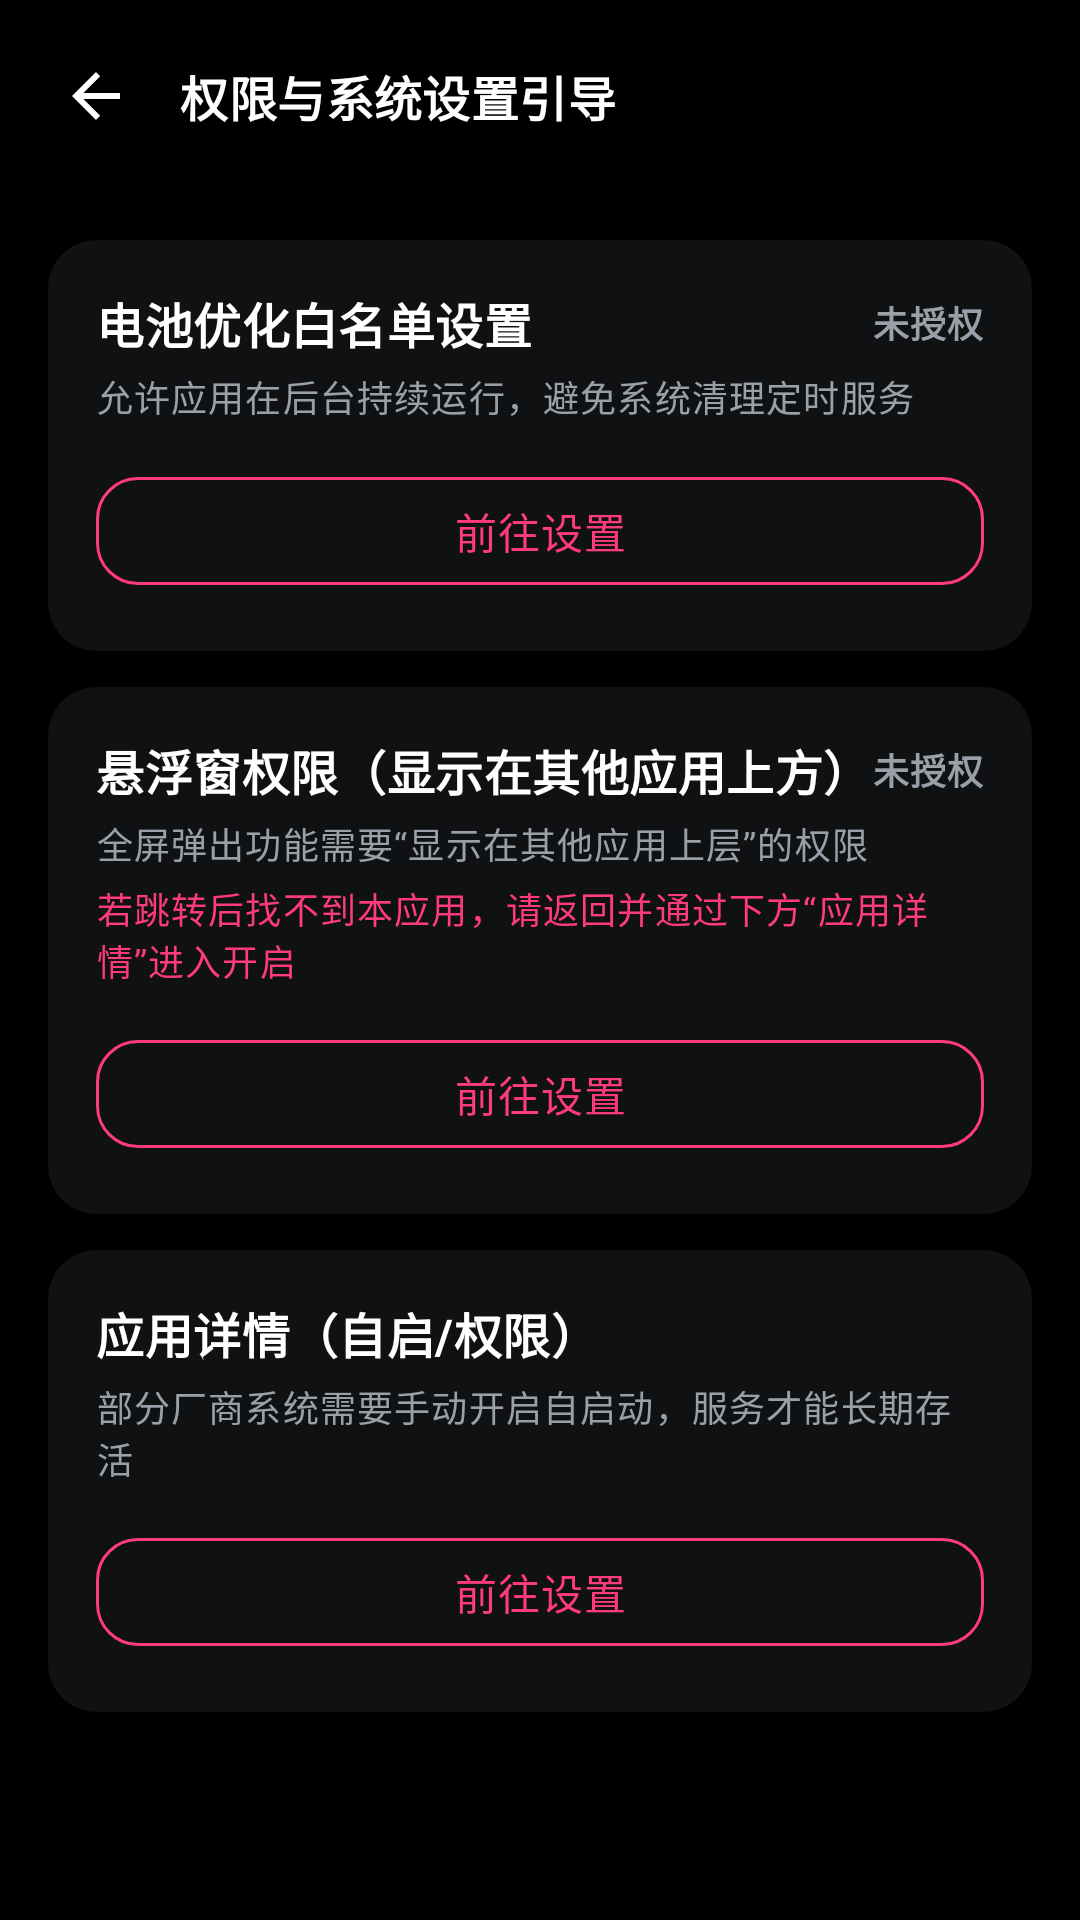

Where icons sit on this 1080*1920 app screen, as Rect(x1, y1, x2, y2):
返回: Rect(72, 72, 120, 120)
